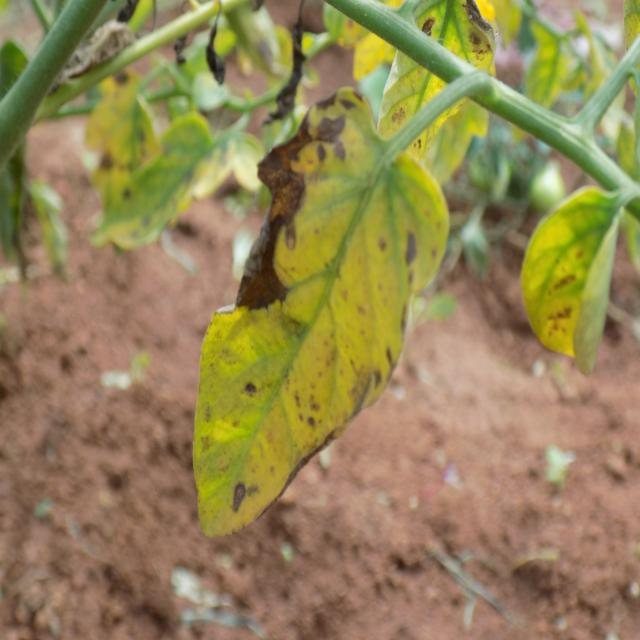tomato_early blight: (196, 91, 450, 540), (76, 108, 238, 257), (378, 0, 497, 197), (520, 181, 615, 381), (85, 67, 154, 247)
